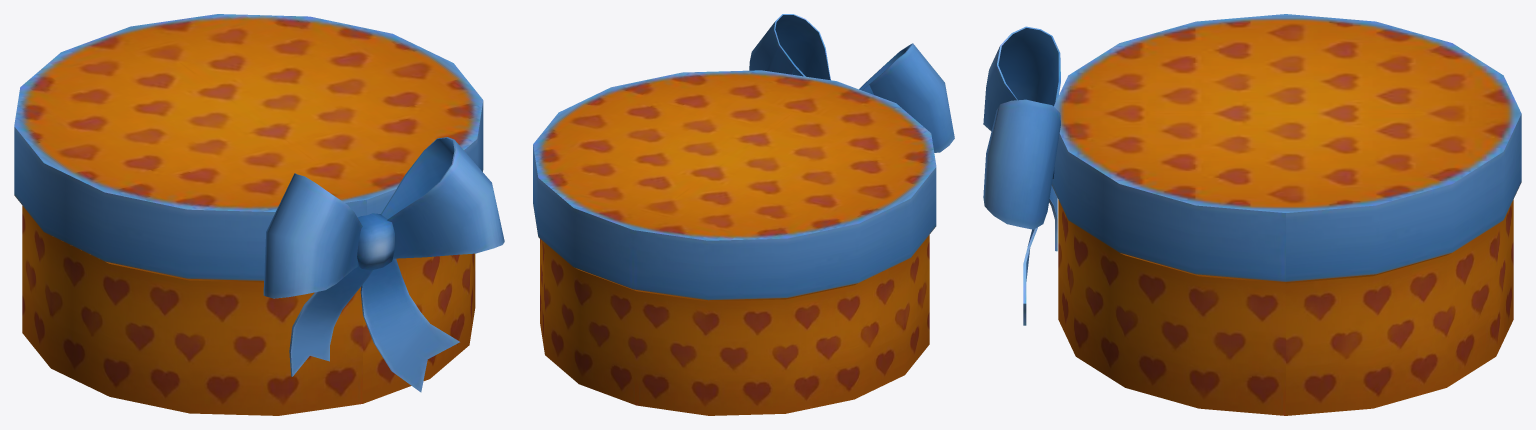
The model's file is present_2.glb.
The picture shows the model from 3 angles, left to right: view 1: azimuth 30°, elevation 25°; view 2: azimuth 150°, elevation 25°; view 3: azimuth 270°, elevation 25°; orthographic projection. The views are drawn at different scales.
Visible parts, largest first — view 1: present_2; view 2: present_2; view 3: present_2.
Part boxes in pixels (bbox=[...]): present_2: bbox=[14, 14, 504, 415]; present_2: bbox=[533, 14, 954, 415]; present_2: bbox=[983, 14, 1521, 415].
Bounding box in the file's own units: 0.5177 × 0.3112 × 0.5913.
1 material, 1 textured.
